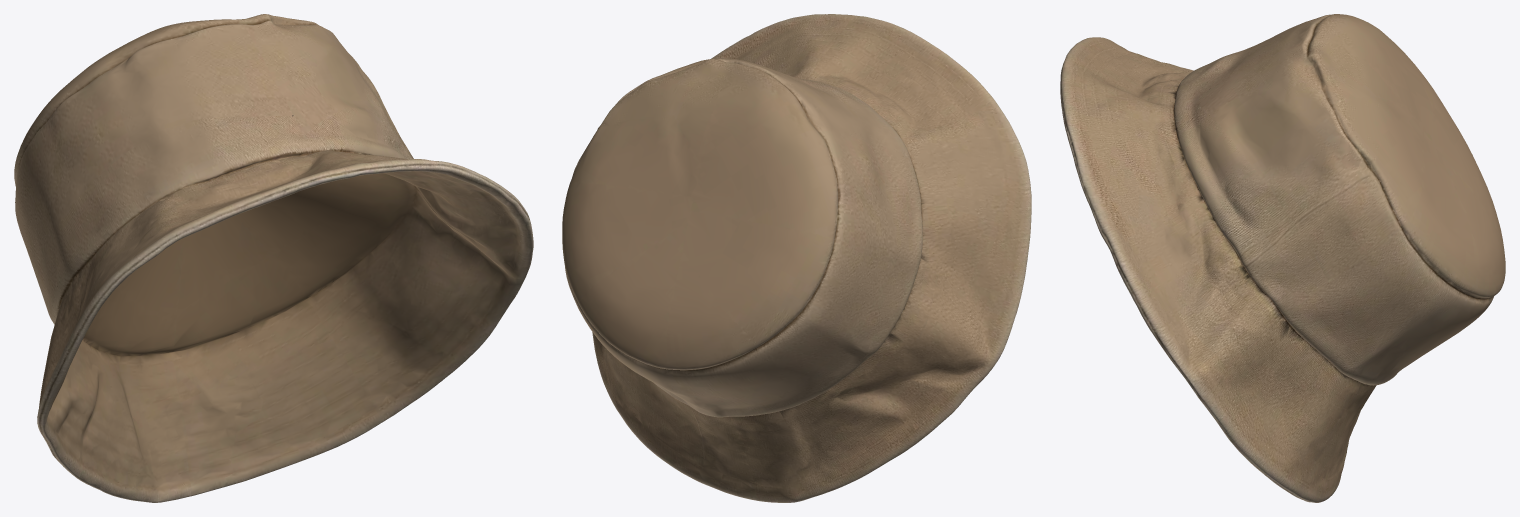
The picture shows the model from 3 angles, left to right: view 1: azimuth 30°, elevation 25°; view 2: azimuth 150°, elevation 25°; view 3: azimuth 270°, elevation 25°; orthographic projection. The views are drawn at different scales.
Parts seen in each view (by area): view 1: tripo_node_dddce831-e7ef-49cf-aa10-774b170c79a1; view 2: tripo_node_dddce831-e7ef-49cf-aa10-774b170c79a1; view 3: tripo_node_dddce831-e7ef-49cf-aa10-774b170c79a1.
Part boxes in pixels (bbox=[...]): tripo_node_dddce831-e7ef-49cf-aa10-774b170c79a1: bbox=[14, 14, 533, 502]; tripo_node_dddce831-e7ef-49cf-aa10-774b170c79a1: bbox=[562, 14, 1031, 502]; tripo_node_dddce831-e7ef-49cf-aa10-774b170c79a1: bbox=[1060, 14, 1505, 502].
Bounding box in the file's own units: 0.9997 × 0.9637 × 0.8821.
1 material, 1 textured.
